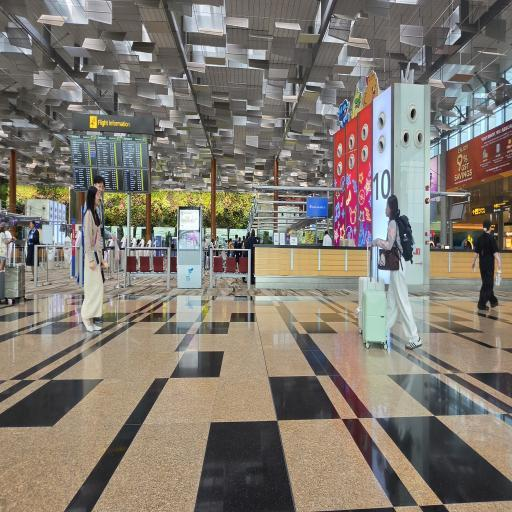person_left: (26, 214, 40, 283)
person_right: (474, 210, 500, 312), (84, 166, 108, 270), (84, 192, 101, 324)
person_with_luggage_left: (344, 194, 424, 357)
